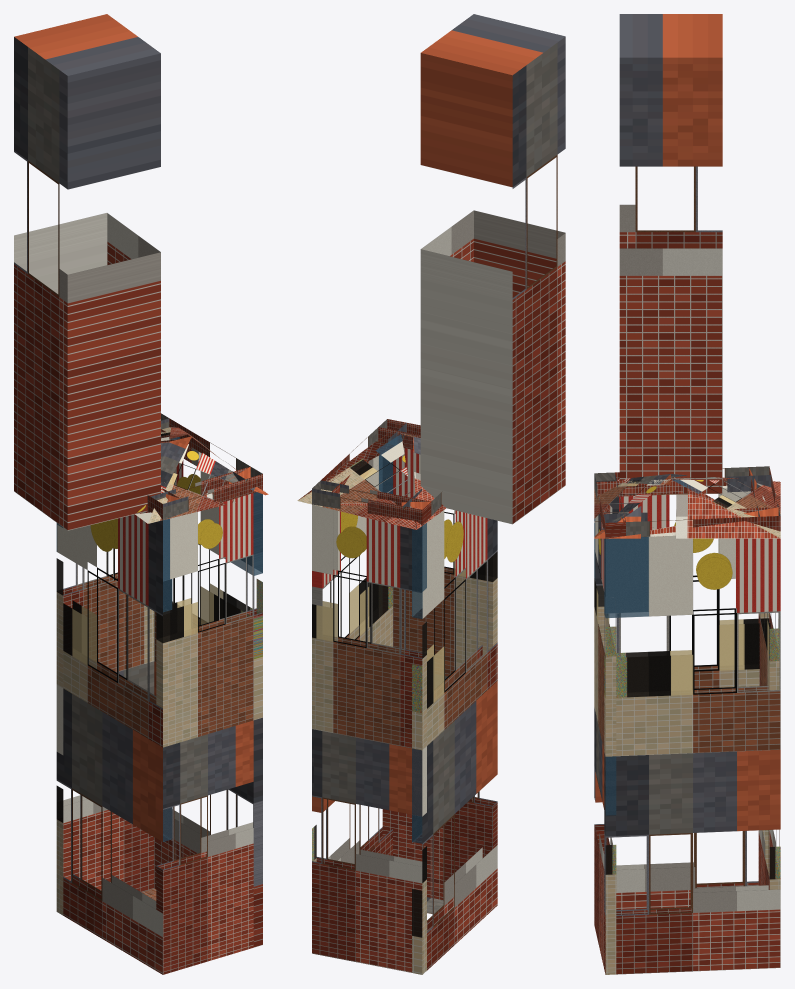
3 views of the same model, side by side, from view 1: azimuth 30°, elevation 25°; view 2: azimuth 150°, elevation 25°; view 3: azimuth 270°, elevation 25° (orthographic). The views are drawn at different scales.
Parts seen in each view (by area): view 1: 238563115__chimney_0_xb, 238563115__wall_3_xb, 238563115__wall_2_xb, 238563115__wall_1_xb, 238563115__wall_0_xb, 238563115__wall_0_xf, 238563115__wall_2_xf, 238563115__wall_3_xf, 238563115__cornice_3, 238563115_roof_front_xb, 238563115_roof_left_xb, 238563115__cornice_0; view 2: 238563115__chimney_0_xb, 238563115__wall_1_xb, 238563115__wall_2_xb, 238563115__wall_3_xb, 238563115__wall_0_xb, 238563115__wall_2_xf, 238563115_roof_back_xb, 238563115__cornice_1, 238563115__wall_0_xf, 238563115__wall_1_xf, 238563115__cornice_3, 238563115__cornice_0 (+1 smaller); view 3: 238563115__wall_0_xb, 238563115__chimney_0_xb, 238563115__wall_2_xb, 238563115__wall_3_xb, 238563115__wall_0_xf, 238563115_roof_right_xb, 238563115__wall_1_xb, 238563115__wall_3_xf, 238563115__cornice_2, 238563115__wall_2_xf, 238563115__cornice_0, 238563115_roof_back_xb (+4 smaller).
Boxes of the visible parts, <box> form: 238563115__chimney_0_xb: <box>14,14,160,530</box>; 238563115__wall_3_xb: <box>156,492,262,974</box>; 238563115__wall_2_xb: <box>56,511,172,974</box>; 238563115__wall_1_xb: <box>56,523,154,915</box>; 238563115__wall_0_xb: <box>154,460,262,947</box>; 238563115__wall_0_xf: <box>201,492,262,658</box>; 238563115__wall_2_xf: <box>64,579,171,841</box>; 238563115__wall_3_xf: <box>156,519,262,642</box>; 238563115__cornice_3: <box>151,466,262,519</box>; 238563115_roof_front_xb: <box>148,444,268,523</box>; 238563115_roof_left_xb: <box>135,436,191,523</box>; 238563115__cornice_0: <box>161,418,262,482</box>; 238563115__chimney_0_xb: <box>420,14,565,524</box>; 238563115__wall_1_xb: <box>312,504,426,974</box>; 238563115__wall_2_xb: <box>412,510,497,974</box>; 238563115__wall_3_xb: <box>382,448,497,900</box>; 238563115__wall_0_xb: <box>312,455,392,863</box>; 238563115__wall_2_xf: <box>412,526,443,937</box>; 238563115_roof_back_xb: <box>297,434,416,529</box>; 238563115__cornice_1: <box>312,480,431,525</box>; 238563115__wall_0_xf: <box>350,455,392,635</box>; 238563115__wall_1_xf: <box>312,523,426,881</box>; 238563115__cornice_3: <box>378,419,420,449</box>; 238563115__cornice_0: <box>321,419,406,493</box>; 238563115__wall_0_xb: <box>604,532,780,974</box>; 238563115__chimney_0_xb: <box>619,14,722,493</box>; 238563115__wall_2_xb: <box>594,485,770,909</box>; 238563115__wall_3_xb: <box>594,515,616,974</box>; 238563115__wall_0_xf: <box>604,537,692,697</box>; 238563115_roof_right_xb: <box>594,477,780,538</box>; 238563115__wall_1_xb: <box>758,613,780,889</box>; 238563115__wall_3_xf: <box>594,519,615,874</box>; 238563115__cornice_2: <box>596,466,771,496</box>; 238563115__wall_2_xf: <box>594,550,769,797</box>; 238563115__cornice_0: <box>603,507,780,536</box>; 238563115_roof_back_xb: <box>672,479,780,538</box>.
Size of the model in its own units: 0.303 by 1.4 by 0.2706.
1 material, 1 textured.
